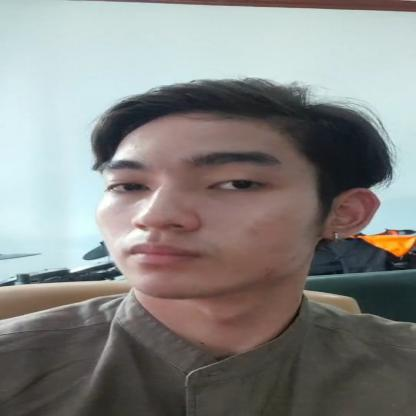Palm: (57, 79, 415, 383)
